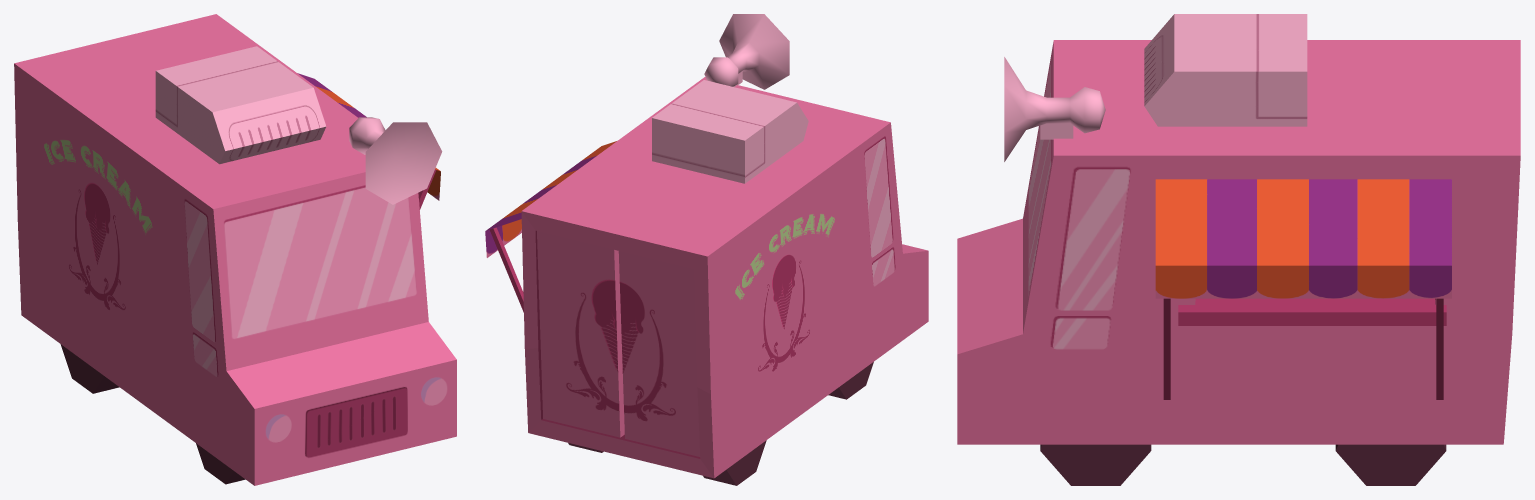
File: ic_truck.fbx
The picture shows the model from 3 angles, left to right: view 1: azimuth 30°, elevation 25°; view 2: azimuth 150°, elevation 25°; view 3: azimuth 270°, elevation 25°; orthographic projection. The views are drawn at different scales.
Visible parts, largest first — view 1: ic_truck; view 2: ic_truck, ic_backdoor_L, ic_backdoor_R; view 3: ic_truck.
Part boxes in pixels (<box>): ic_truck: <box>14,14,456,485</box>; ic_truck: <box>485,14,928,485</box>; ic_backdoor_L: <box>537,231,624,437</box>; ic_backdoor_R: <box>618,251,700,456</box>; ic_truck: <box>957,14,1520,485</box>.
Bounding box in the file's own units: 2.68 × 3.3 × 4.12.
Materials: 1 (1 with a texture image).
